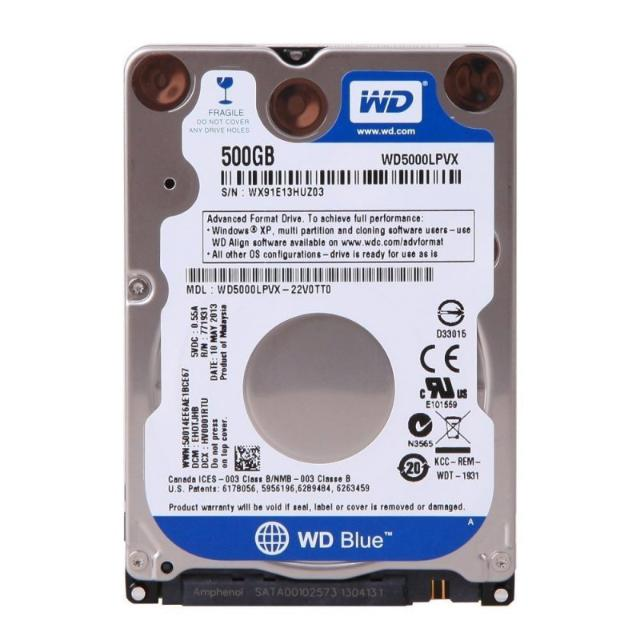HDD: (118, 43, 522, 610)
